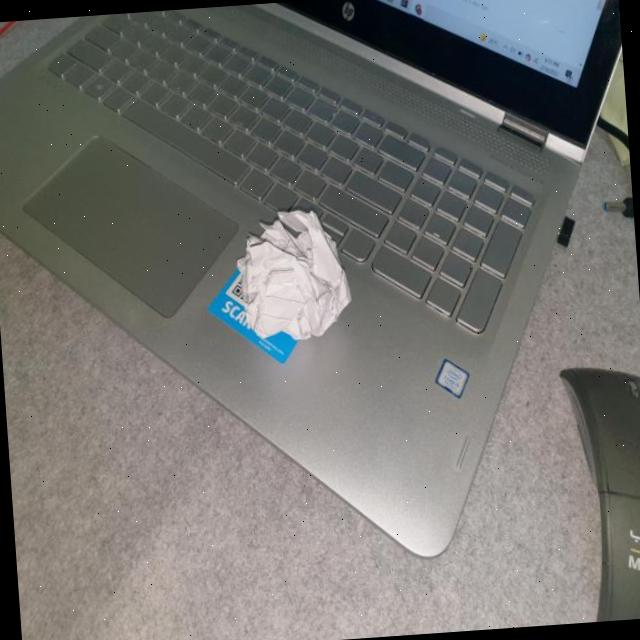trash: (225, 189, 358, 357)
